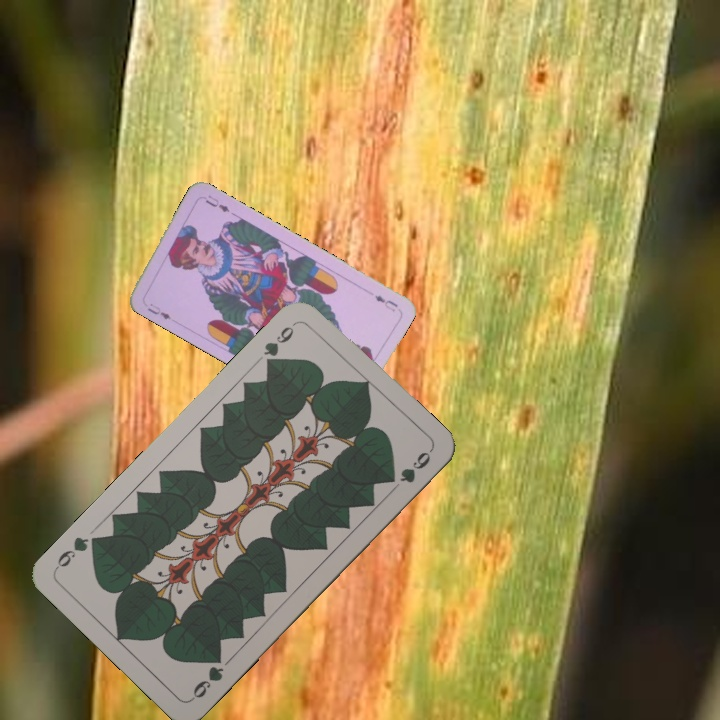EU: (143, 299, 174, 322), (371, 291, 401, 314)
G9: (259, 317, 300, 370), (187, 650, 227, 703)
